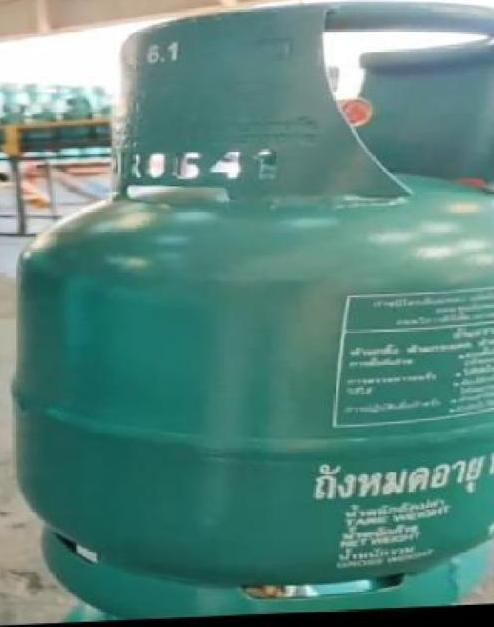cylinder: (0, 1, 494, 627)
